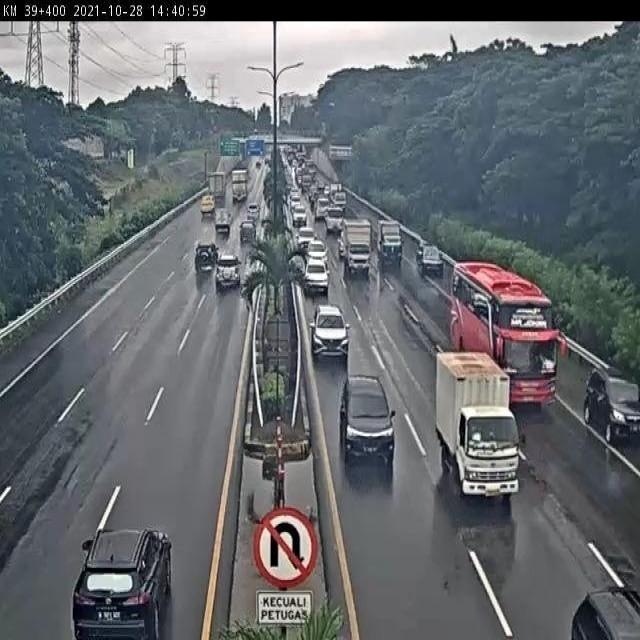Bus: (449, 259, 566, 409)
Car: (72, 527, 173, 639), (339, 375, 396, 466), (582, 367, 640, 444), (568, 584, 640, 638), (310, 303, 350, 360), (303, 256, 330, 296), (215, 252, 242, 290), (416, 244, 443, 279), (194, 242, 218, 274), (306, 238, 328, 266), (296, 226, 316, 254), (239, 218, 256, 244), (291, 204, 307, 226), (247, 202, 260, 219)
Truck: (434, 350, 529, 500), (341, 219, 375, 278), (376, 217, 405, 266), (206, 171, 228, 203), (231, 168, 249, 204), (215, 208, 232, 235), (200, 194, 216, 218)
